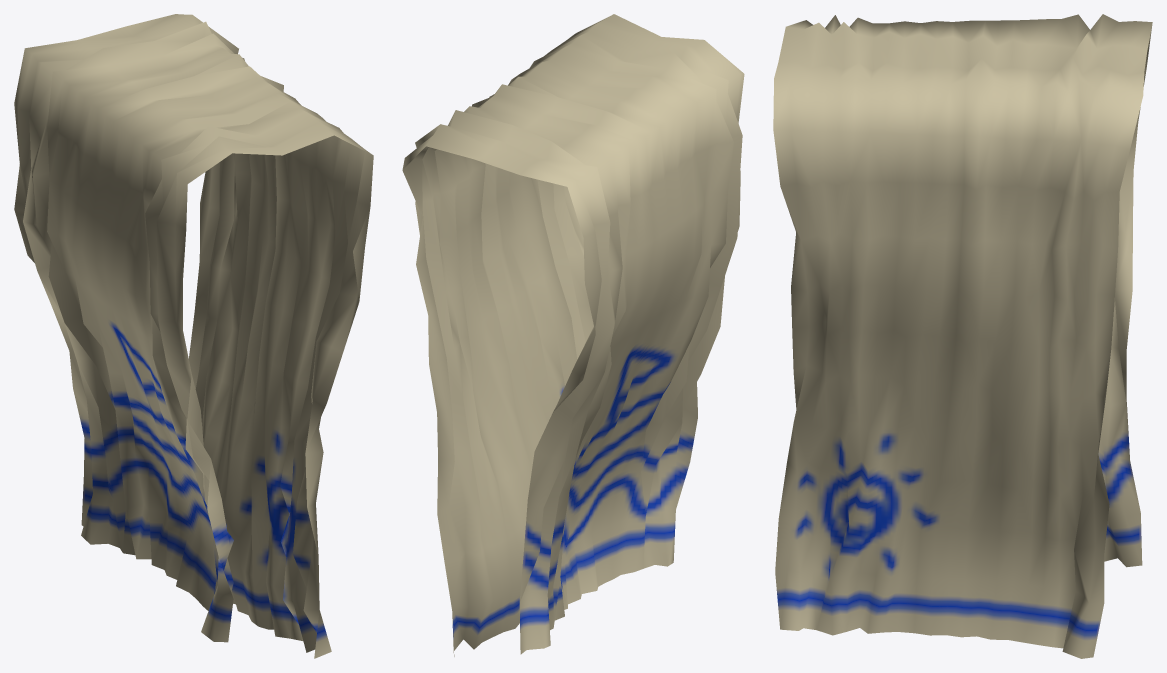
The model's file is Towel.glb.
3 renders of one model, left to right at view 1: azimuth 30°, elevation 25°; view 2: azimuth 150°, elevation 25°; view 3: azimuth 270°, elevation 25°, orthographic. The views are drawn at different scales.
Visible parts, largest first — view 1: Plane; view 2: Plane; view 3: Plane.
Boxes of the visible parts, x1,y1,x2,y2 form: Plane: (14,14,373,658); Plane: (402,14,744,656); Plane: (773,14,1152,658).
Bounding box in the file's own units: 0.5338 × 1.34 × 0.7925.
1 material, 1 textured.
